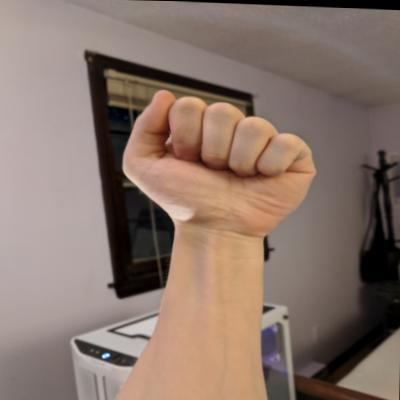hand: (116, 82, 326, 250)
